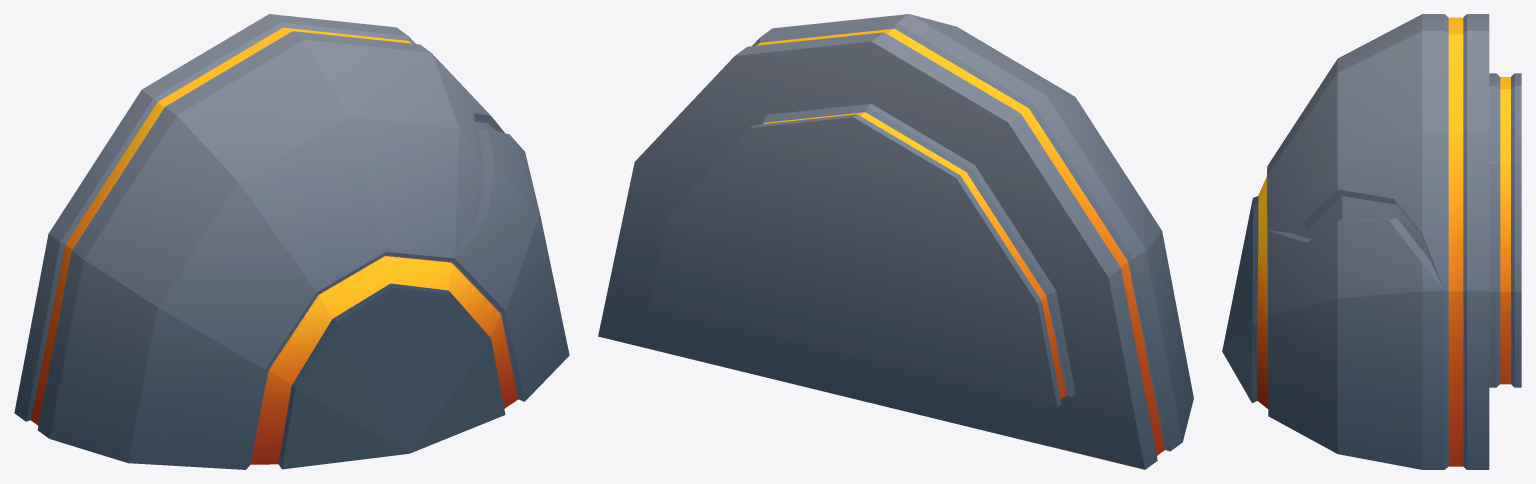
The model's file is SM_APP_Alien_blockG.glb.
The picture shows the model from 3 angles, left to right: view 1: azimuth 30°, elevation 25°; view 2: azimuth 150°, elevation 25°; view 3: azimuth 270°, elevation 25°; orthographic projection. The views are drawn at different scales.
Parts seen in each view (by area): view 1: SM_APP_Alien_blockG; view 2: SM_APP_Alien_blockG; view 3: SM_APP_Alien_blockG.
Boxes of the visible parts, x1,y1,x2,y2 form: SM_APP_Alien_blockG: (14,14,569,469); SM_APP_Alien_blockG: (598,14,1193,469); SM_APP_Alien_blockG: (1222,14,1521,469).
Size of the model in its own units: 11.7 by 7.39 by 6.26.
Materials: 1 (1 with a texture image).
